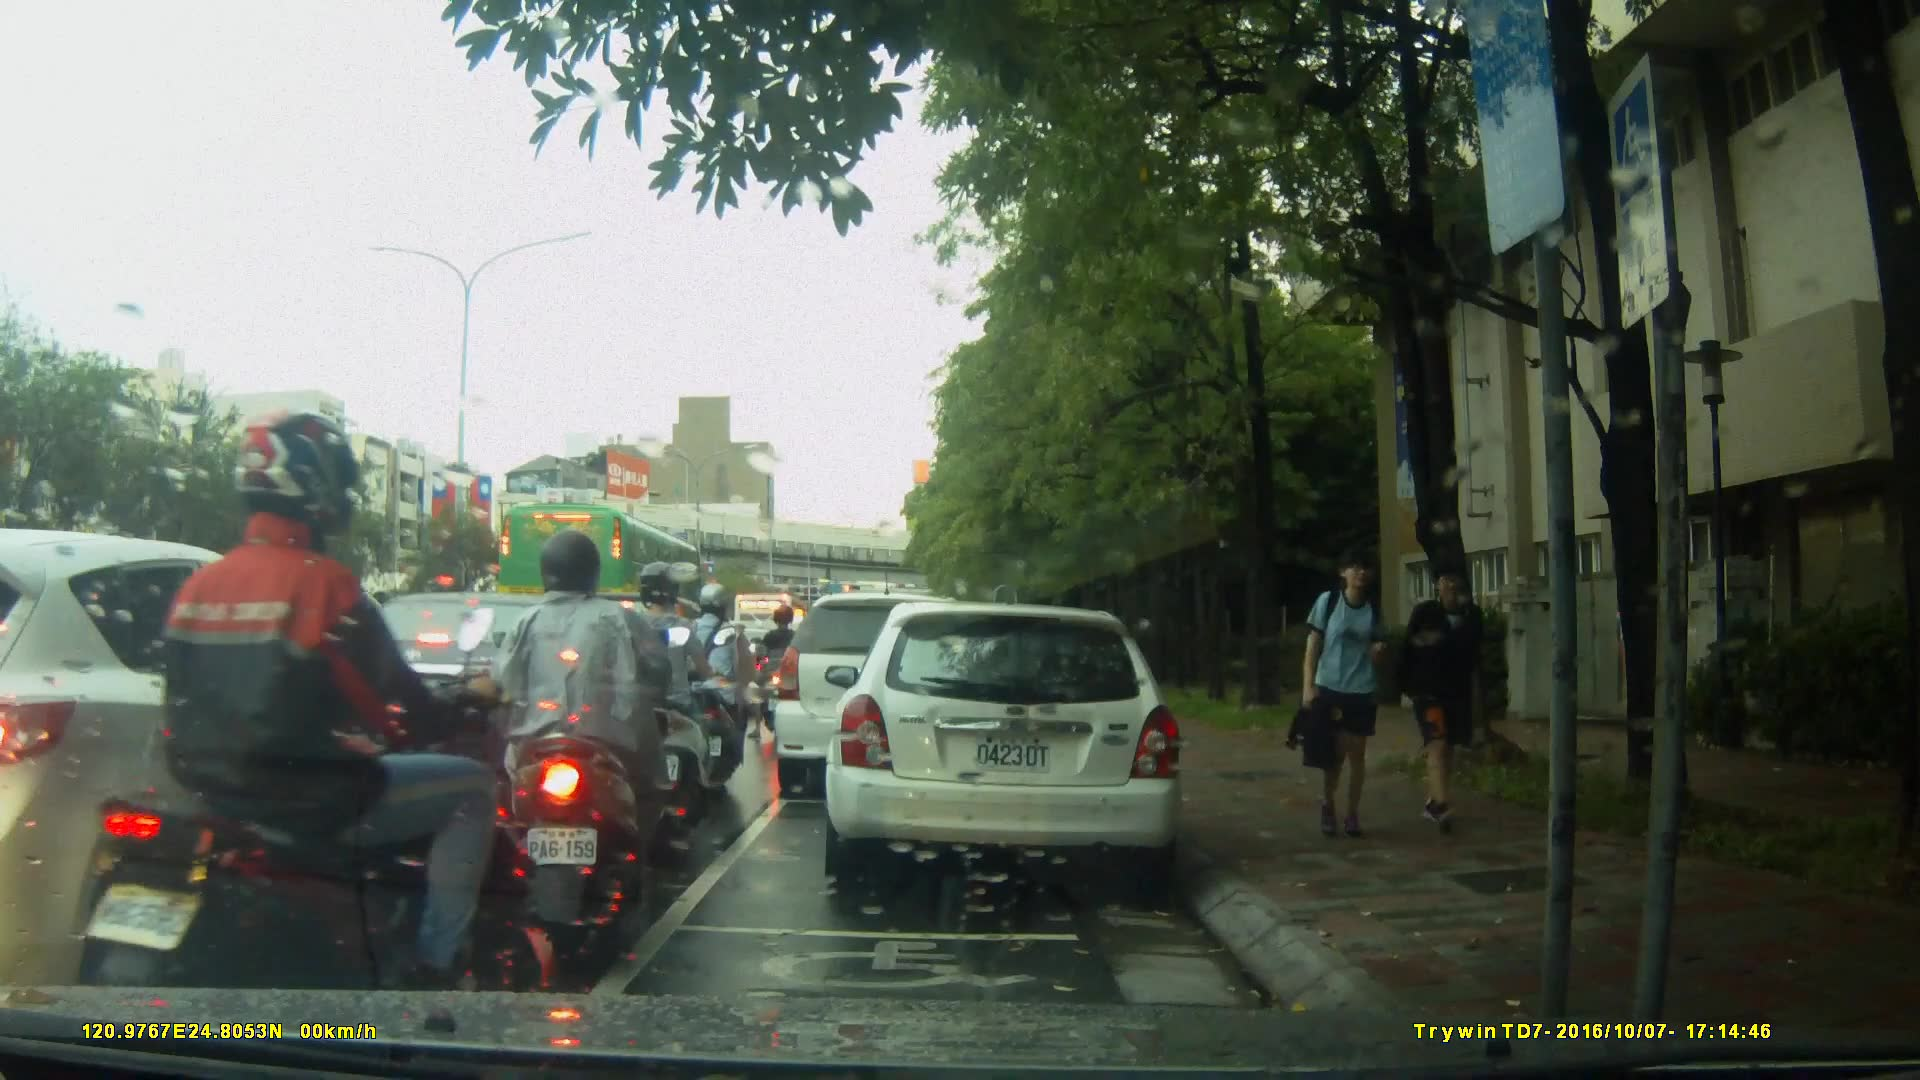pedestrian: (1287, 543, 1408, 846), (1408, 548, 1496, 836)
rider: (88, 410, 542, 1070), (492, 538, 692, 928), (606, 564, 719, 836), (679, 582, 756, 787), (757, 601, 803, 735)
vehicle: (1, 528, 452, 988), (831, 592, 1196, 897), (318, 590, 627, 789), (770, 590, 999, 803), (495, 500, 707, 636)
